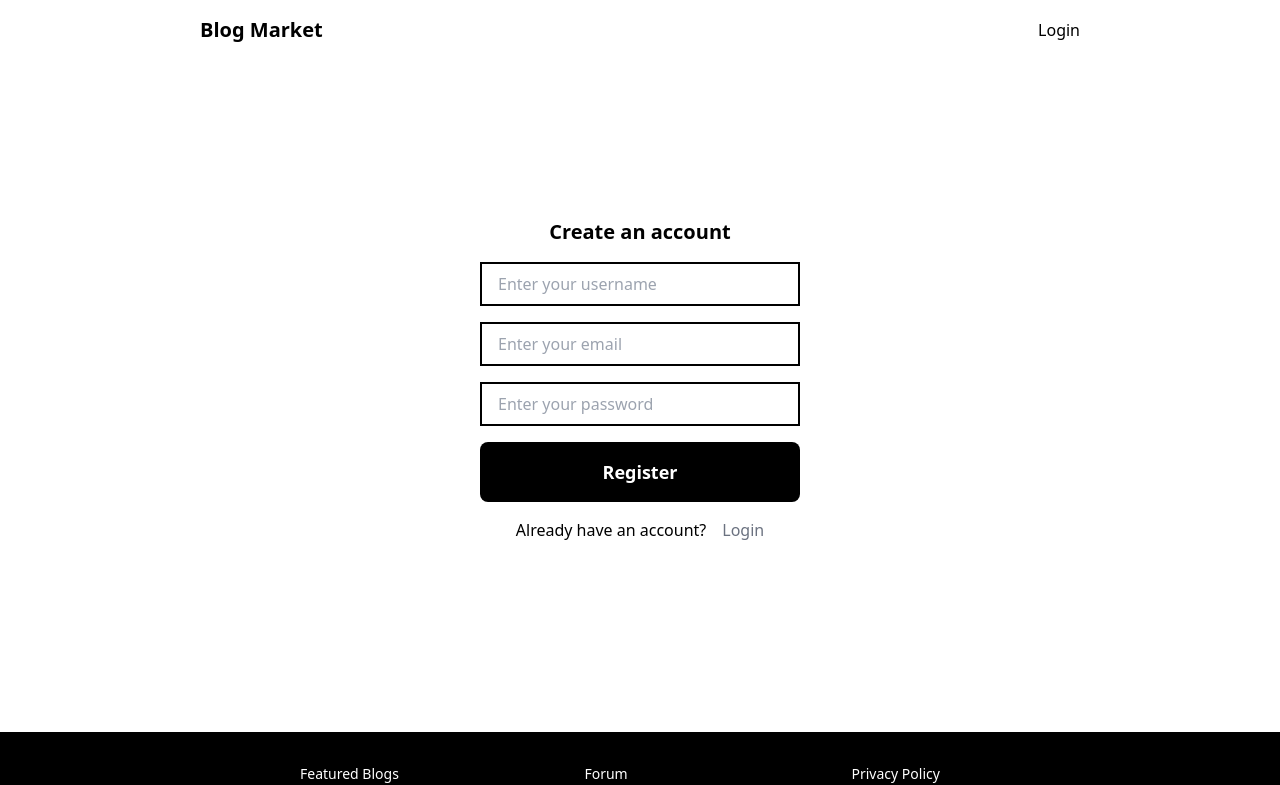
Test case: Testing Register UI › should display an error message for unsuccessful registration
Note: Click on the register button without providing any information
Click the button "Register".
click(640, 472)  # box [480,442,800,502]
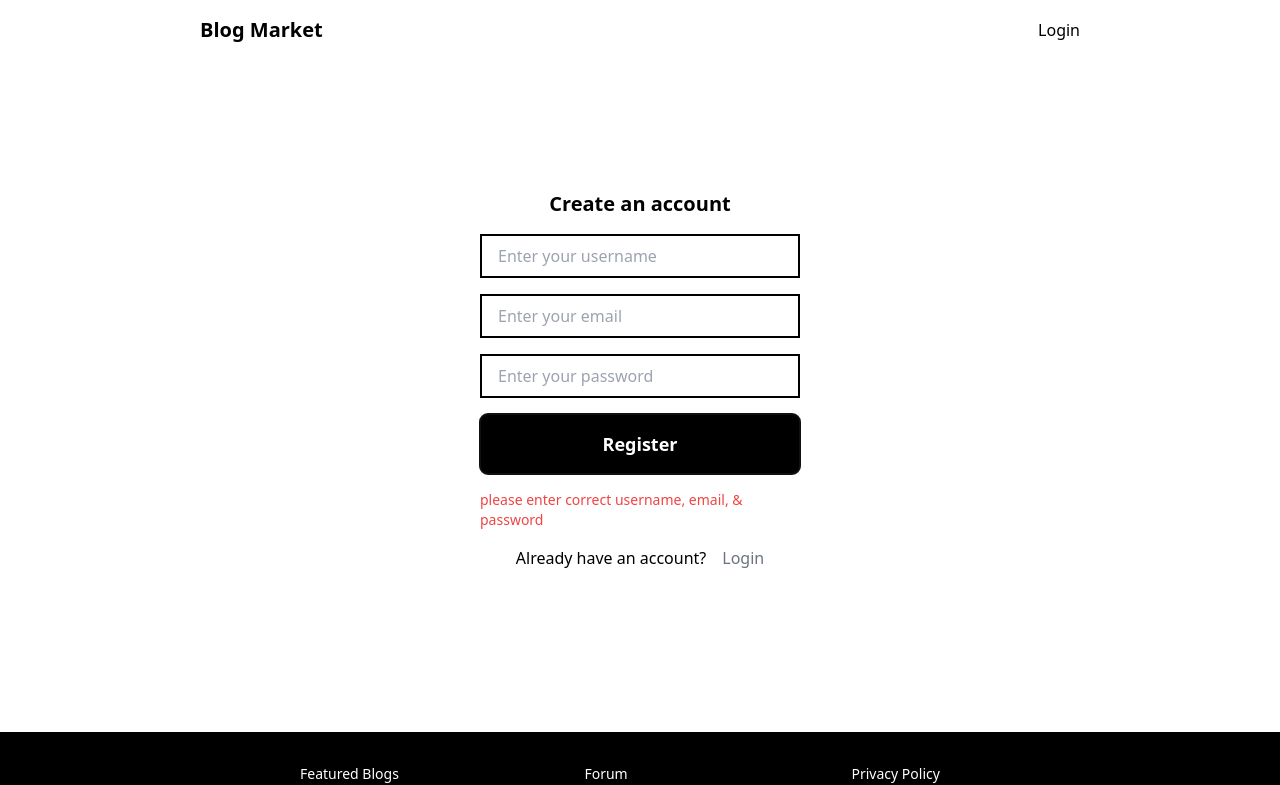
Now the heading "please enter correct username, email, & password" is shown, box [480,490,742,529]
